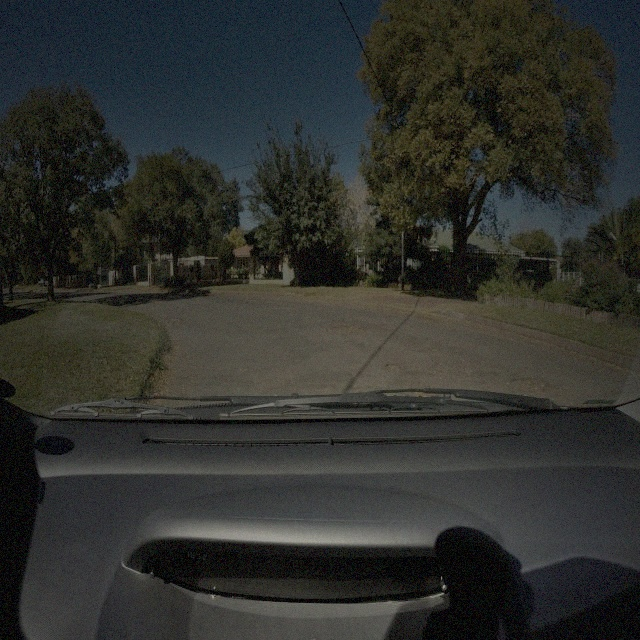pothole: (506, 372, 550, 396), (326, 324, 361, 335), (385, 362, 401, 372), (430, 346, 441, 353)
